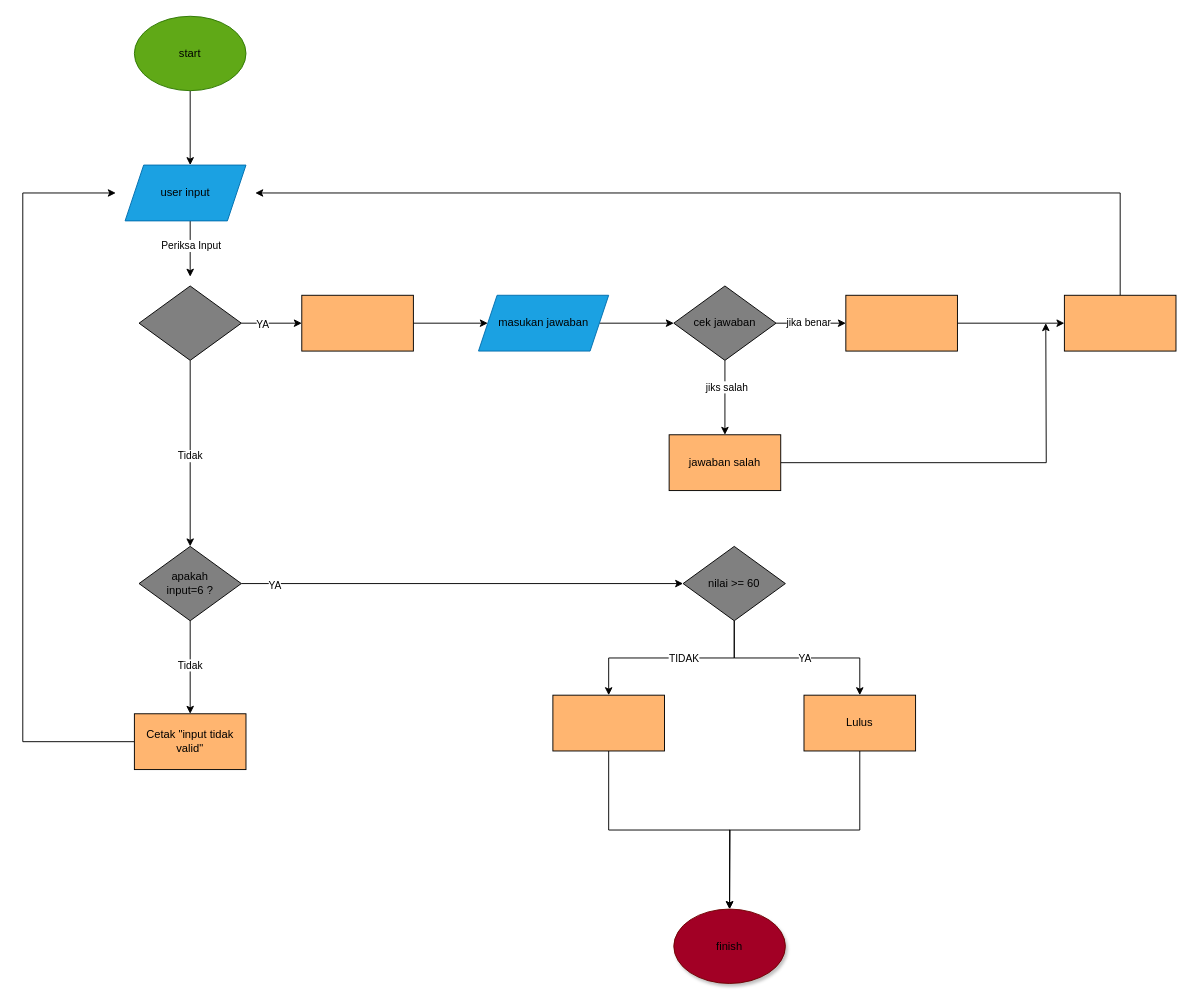
This 1192x1006 diagram has some shape labels left out. The centre of each missing label's shape, as x and y in pixels:
Hitung nilai dan kembali ke input: the point at 1119,322
Input 1 sampai 5 ?: the point at 189,322
jawaban benar: the point at 901,322
tampilan soal: the point at 357,322
TIdak Lulus: the point at 608,722
